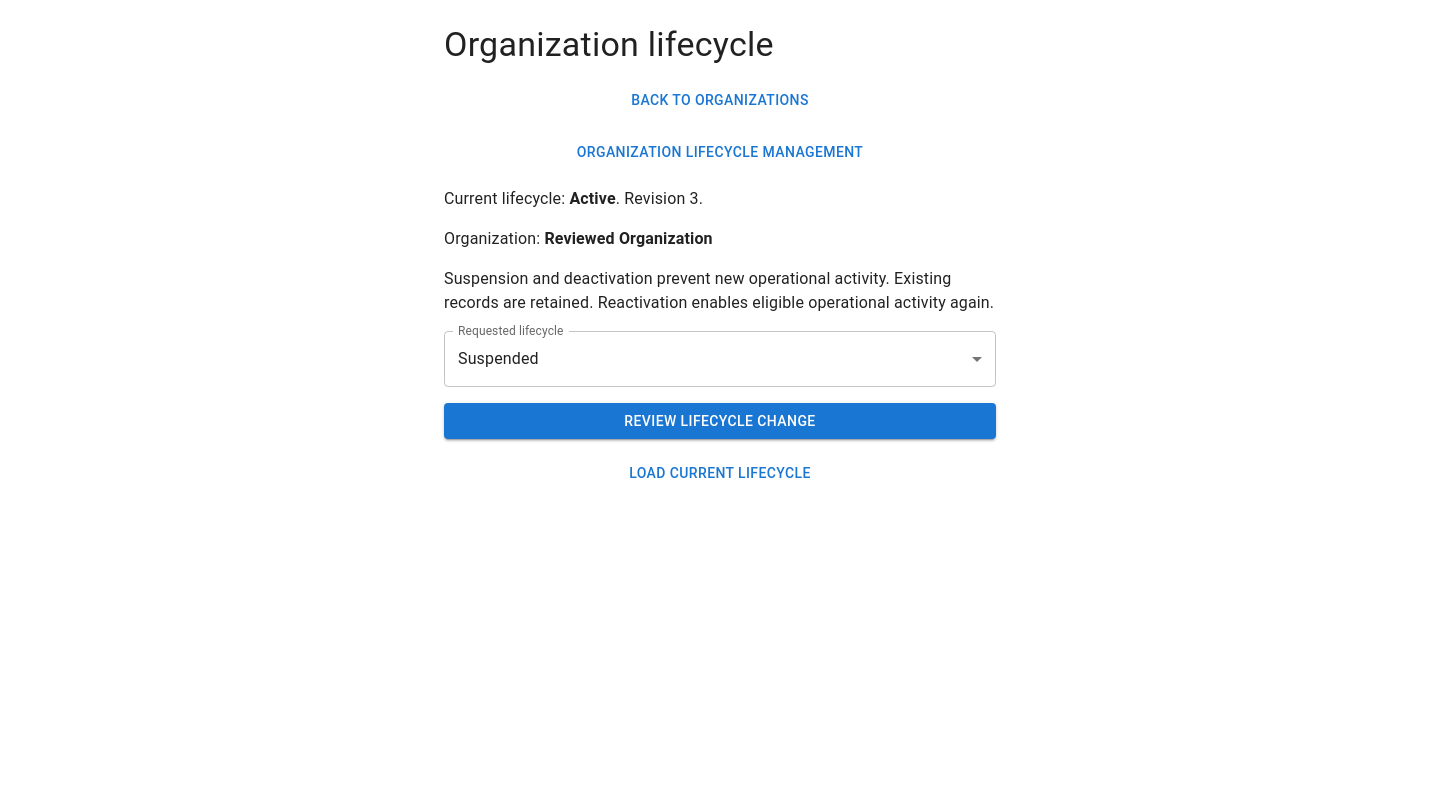
Test: reviews explicit lifecycle and revision with keyboard-safe cancel and no mutation
This screenshot has width=1440, height=810.
Expected: the text "Current lifecycle: Active. Revision 3." is shown, [444,189,703,208]
Click the button "Review lifecycle change". click: (720, 421)
box: [444,403,996,440]
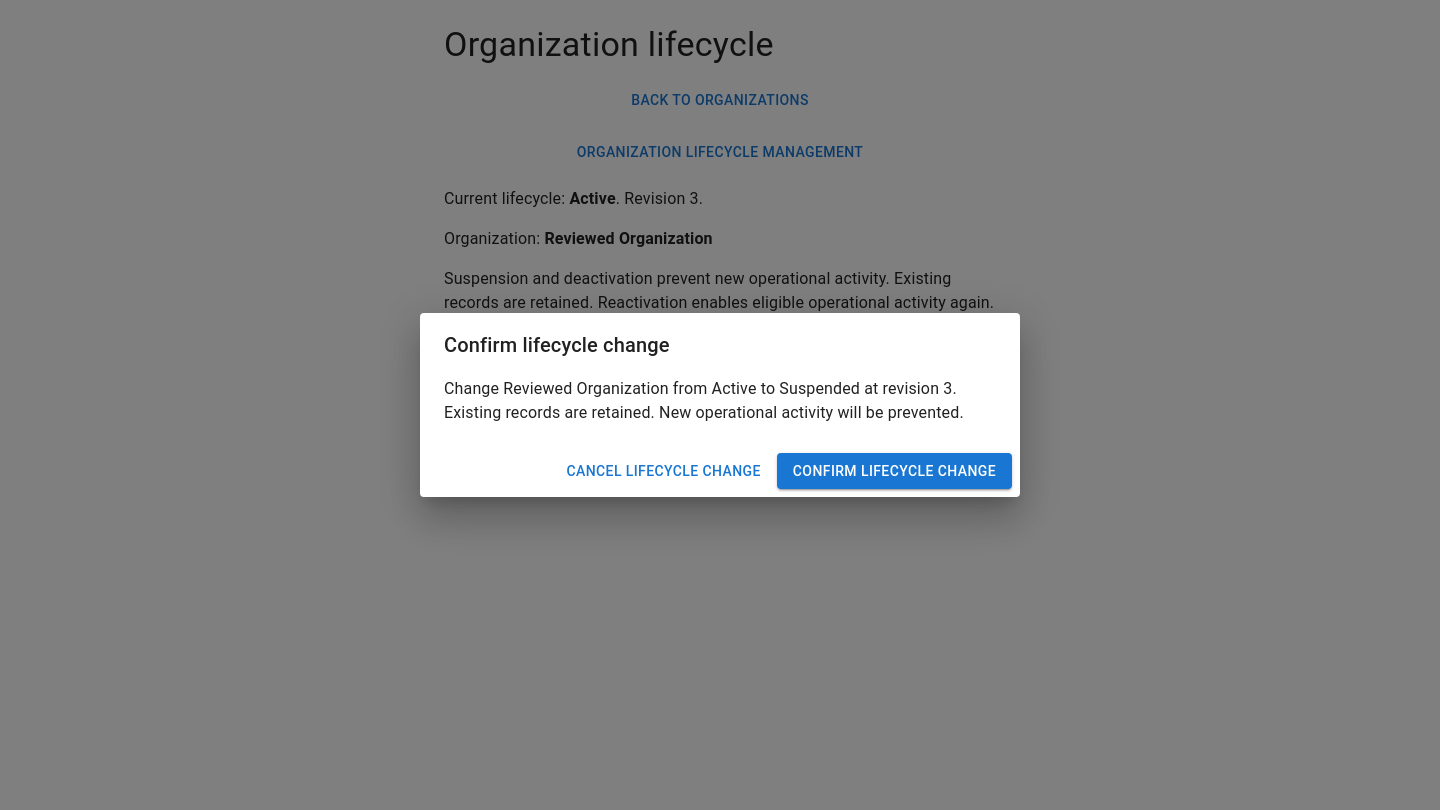
Click the button "Cancel lifecycle change". click: (664, 471)
box: [558,453,769,489]
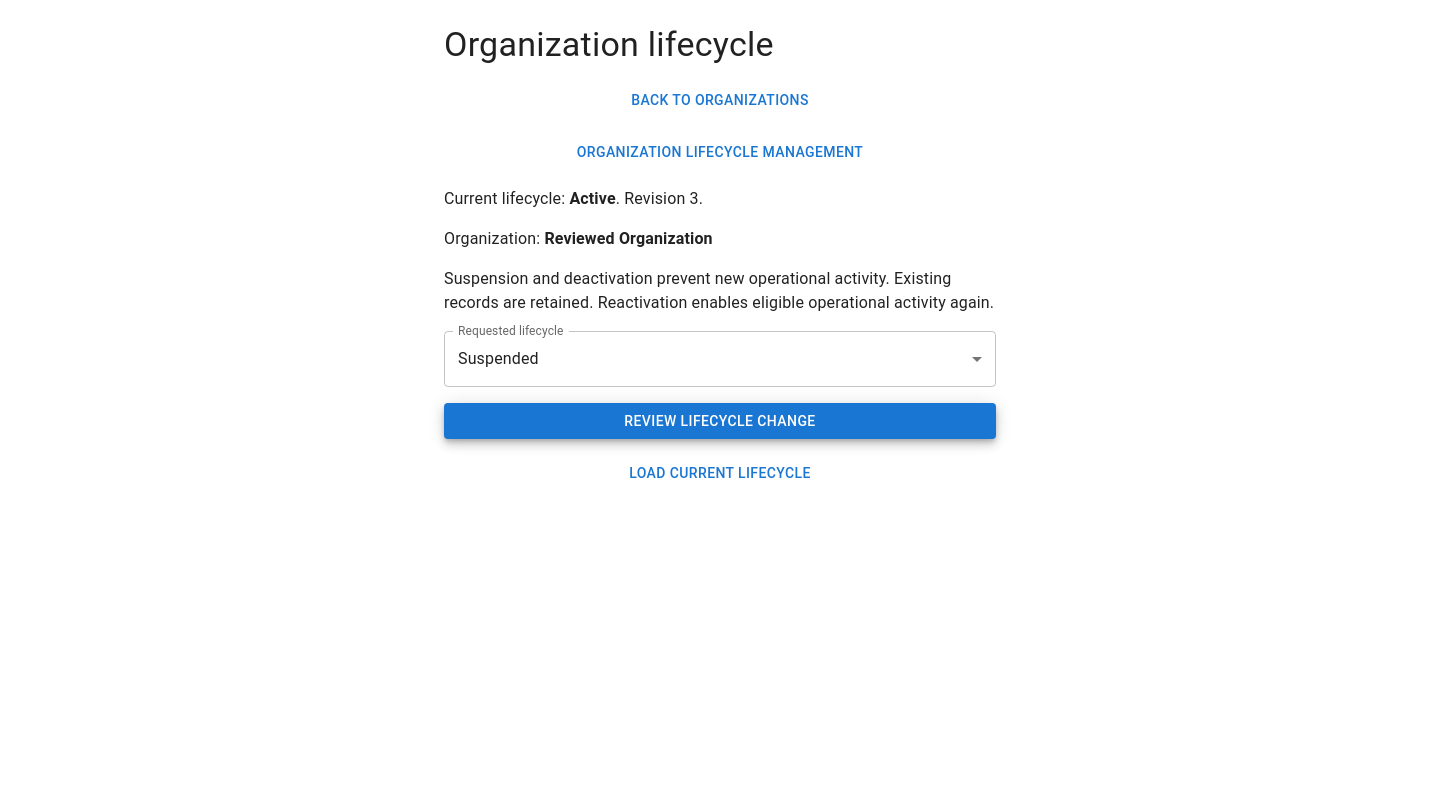
Expected: the dialog is gone
